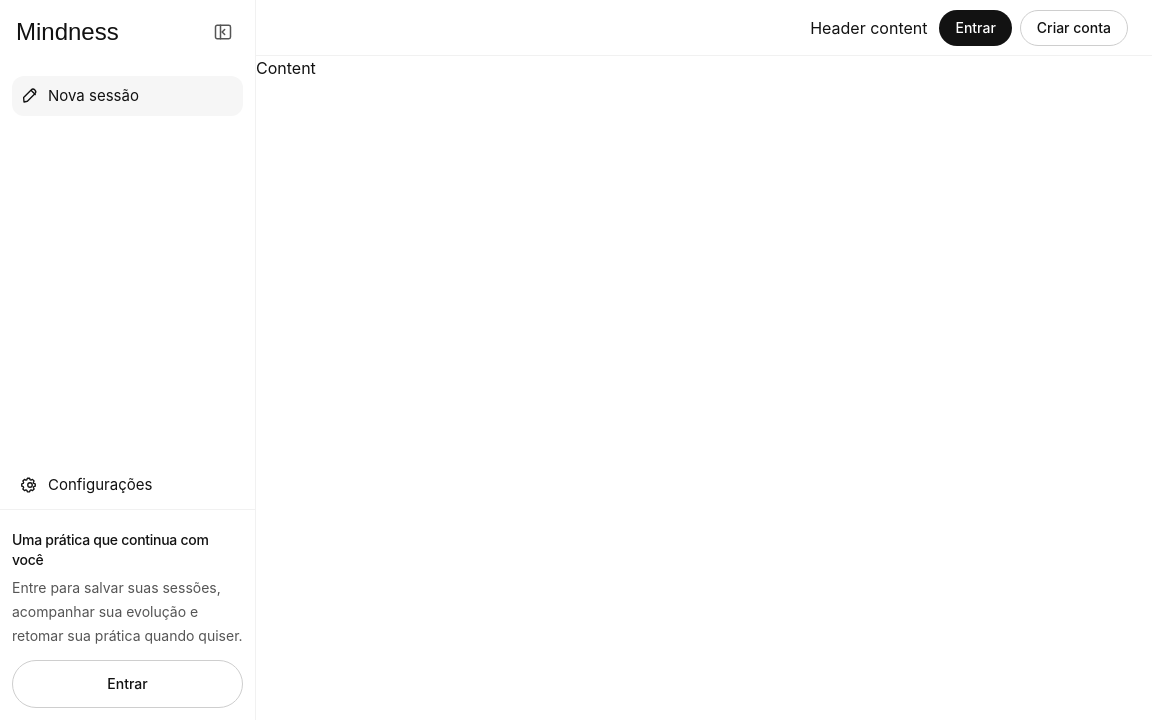
AuthenticatedShell › tracks account entry started from the guest sidebar
Click the button "Entrar" below "Uma prática que continua com você". click: (128, 684)
box: [12,660,243,708]
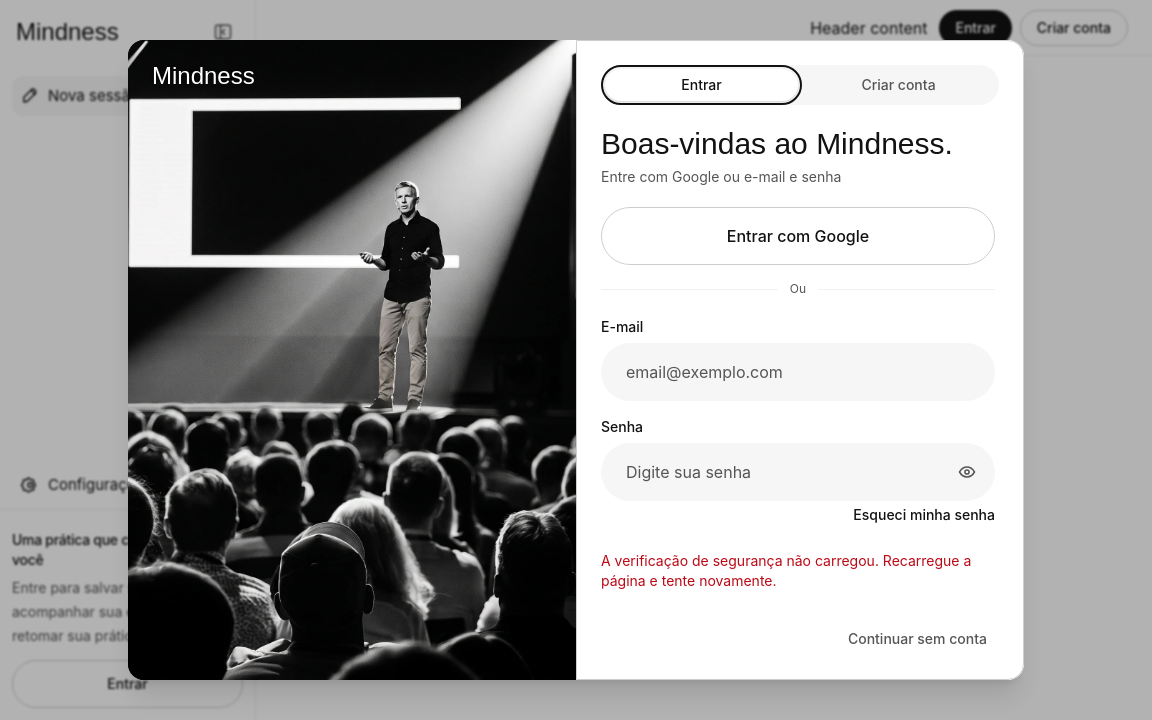
Expected: the dialog named "É bom ter você de volta." is shown
